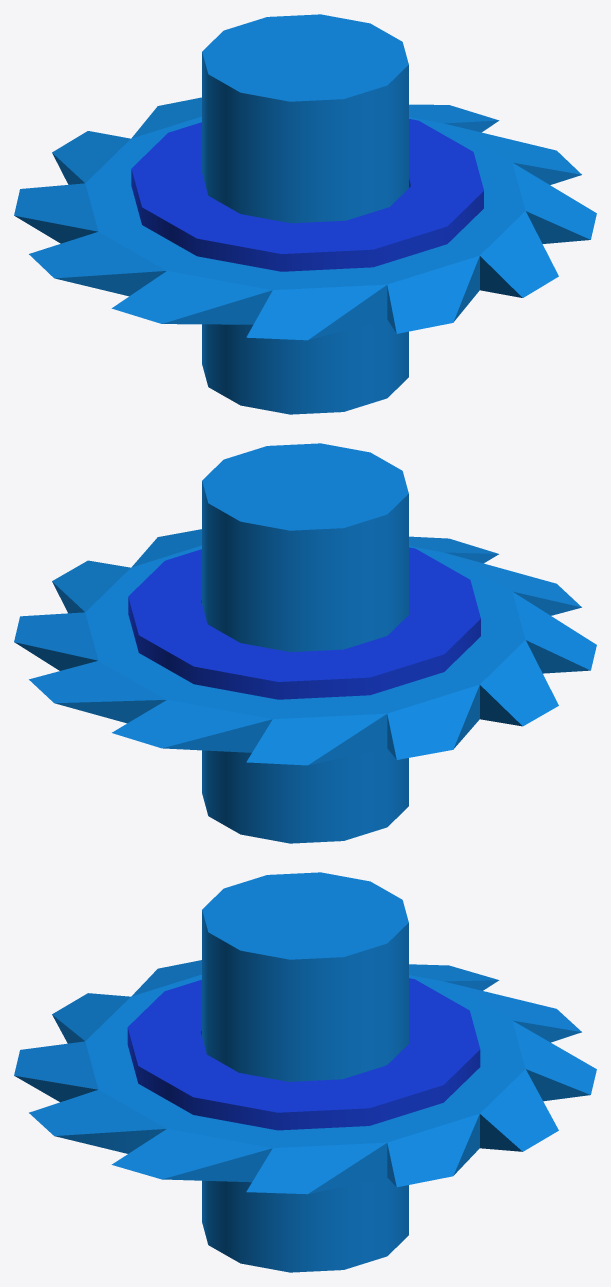
File: Rotating_saw_obstacle.fbx
3 renders of one model, top to bottom at view 1: azimuth 30°, elevation 25°; view 2: azimuth 150°, elevation 25°; view 3: azimuth 270°, elevation 25°, orthographic.
Visible parts, largest first — view 1: rotating_saw, rotating_saw_body; view 2: rotating_saw, rotating_saw_body; view 3: rotating_saw, rotating_saw_body.
Part boxes in pixels (x1=…): rotating_saw: x1=14, y1=14, x2=596, y2=414; rotating_saw_body: x1=131, y1=119, x2=483, y2=271; rotating_saw: x1=14, y1=443, x2=596, y2=843; rotating_saw_body: x1=128, y1=547, x2=480, y2=699; rotating_saw: x1=14, y1=872, x2=596, y2=1272; rotating_saw_body: x1=127, y1=978, x2=480, y2=1130.
Size of the model in its own units: 121 by 71.8 by 121.
